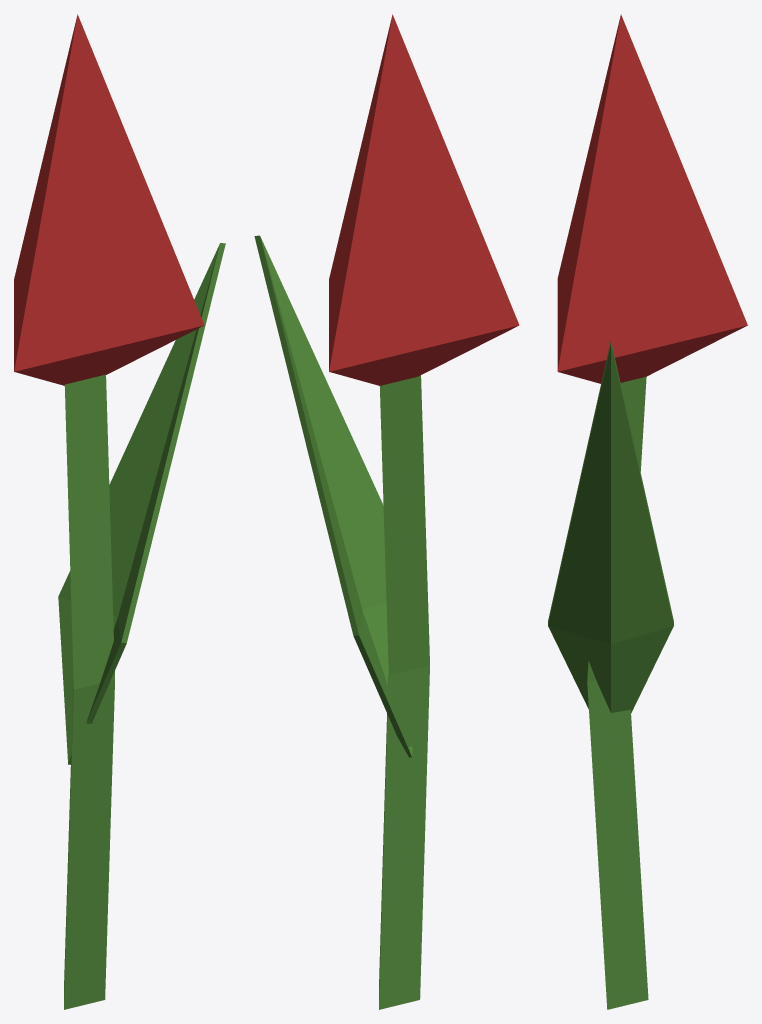
File: Flower_tulip_red_mat.fbx
3 renders of one model, left to right at view 1: azimuth 30°, elevation 25°; view 2: azimuth 150°, elevation 25°; view 3: azimuth 270°, elevation 25°, orthographic.
Parts seen in each view (by area): view 1: Flower_tulip_red_mat; view 2: Flower_tulip_red_mat; view 3: Flower_tulip_red_mat.
Boxes of the visible parts, x1=… form: Flower_tulip_red_mat: x1=14, y1=14, x2=225, y2=1009; Flower_tulip_red_mat: x1=254, y1=14, x2=519, y2=1009; Flower_tulip_red_mat: x1=548, y1=14, x2=747, y2=1009.
Size of the model in its own units: 58.8 by 232 by 42.71.
